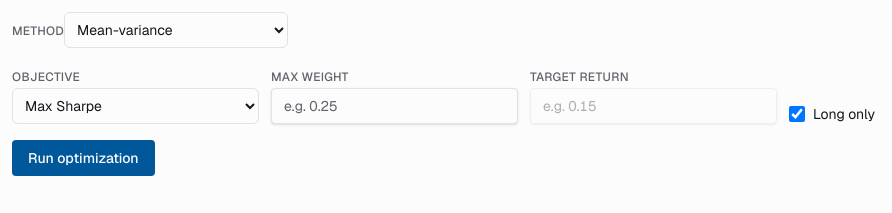
Test: OptimizePanel › offers both optimization methods and switching to risk parity disables the objective
This screenshot has width=892, height=213.
Select "Risk parity" in the dropdown labelled "Method" at (176, 30), box x1=64 y1=12 x2=288 y2=48
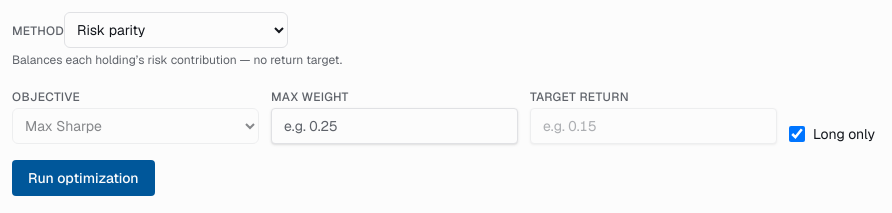
Result: the dropdown labelled "Objective" is disabled at x1=12 y1=108 x2=259 y2=144
Result: the text "no return target" is shown at x1=12 y1=52 x2=342 y2=68
